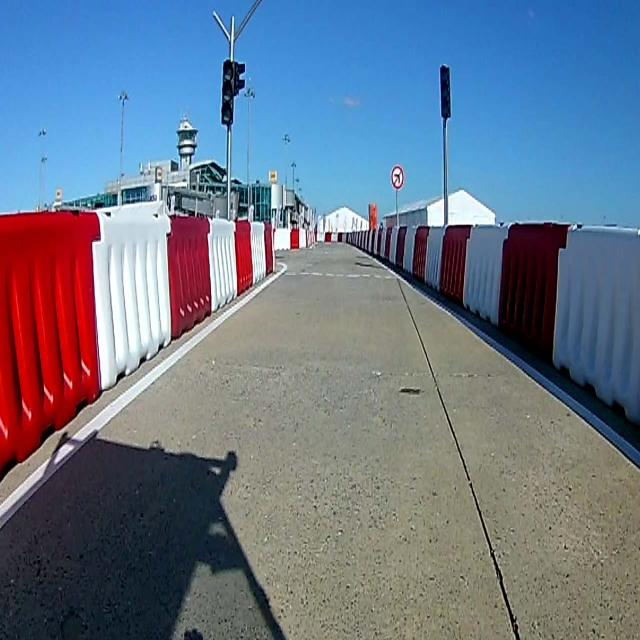soladonulmez: (390, 163, 404, 189)
